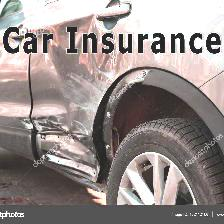door_dent: (18, 23, 120, 180)
